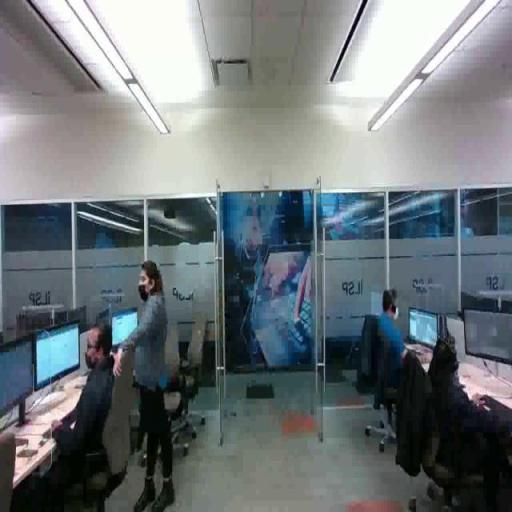person: (38, 321, 128, 510), (117, 254, 175, 512), (419, 330, 504, 485), (366, 286, 423, 410)
